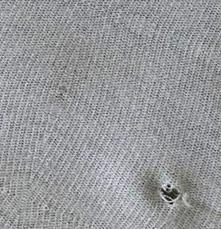hole: (155, 179, 190, 208)
